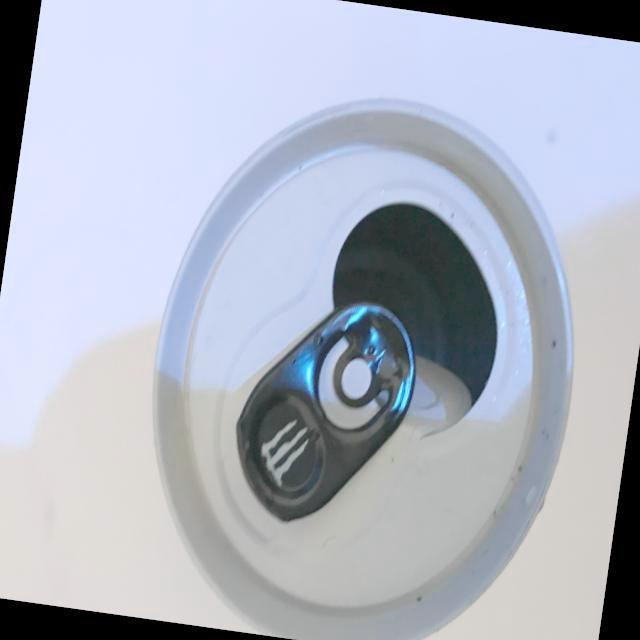metal: (112, 39, 631, 640)
